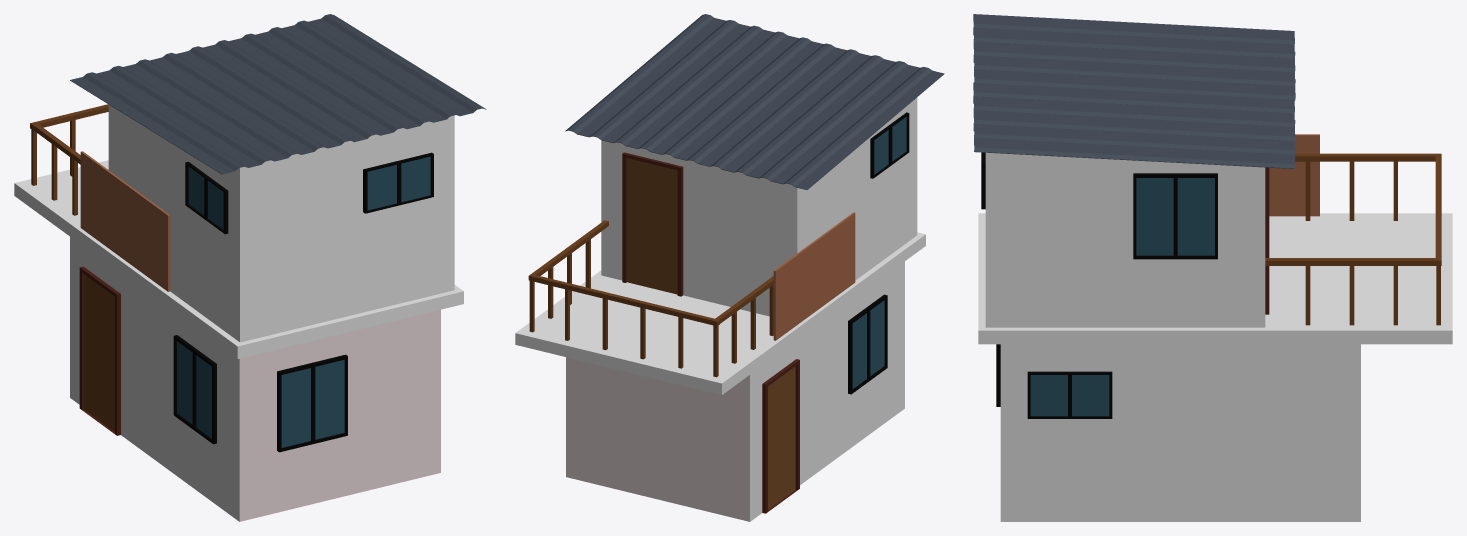
File: Slum 5.fbx
The picture shows the model from 3 angles, left to right: view 1: azimuth 30°, elevation 25°; view 2: azimuth 150°, elevation 25°; view 3: azimuth 270°, elevation 25°; orthographic projection. The views are drawn at different scales.
Visible parts, largest first — view 1: Roof.001, 1st Floor.007, 1st Floor.005, 1st Floor.002, 1st Floor.015, 1st Floor.006, Plane.001, Door.005, Window 1.012, Window 1.011, Window 2.011, Cube.009 (+1 smaller); view 2: Roof.001, 1st Floor.005, 1st Floor.006, 1st Floor.007, 1st Floor.002, 1st Floor.015, Door.006, Cube.009, Plane.001, Door.005, Window 1.011, Window 2.010; view 3: 1st Floor.002, Roof.001, 1st Floor.015, 1st Floor.006, Window 1.013, Cube.009, Window 2.009, Plane.001, Door.006.
Boxes of the visible parts, x1,y1,x2,y2 form: Roof.001: [70, 14, 486, 174]; 1st Floor.007: [240, 115, 454, 342]; 1st Floor.005: [239, 309, 440, 521]; 1st Floor.002: [70, 237, 239, 521]; 1st Floor.015: [108, 105, 239, 341]; 1st Floor.006: [14, 160, 463, 359]; Plane.001: [80, 151, 170, 291]; Door.005: [79, 266, 120, 435]; Window 1.012: [277, 354, 347, 452]; Window 1.011: [173, 335, 216, 444]; Window 2.011: [363, 152, 433, 213]; Cube.009: [30, 104, 108, 215]; Roof.001: [565, 14, 944, 189]; 1st Floor.005: [566, 357, 749, 521]; 1st Floor.006: [515, 232, 925, 394]; 1st Floor.007: [601, 140, 797, 316]; 1st Floor.002: [750, 261, 904, 521]; 1st Floor.015: [797, 97, 917, 280]; Door.006: [622, 152, 683, 296]; Cube.009: [528, 220, 773, 377]; Plane.001: [773, 212, 855, 340]; Door.005: [762, 359, 799, 513]; Window 1.011: [848, 294, 887, 394]; Window 2.010: [870, 112, 909, 178]; 1st Floor.002: [1000, 344, 1360, 521]; Roof.001: [973, 14, 1295, 168]; 1st Floor.015: [985, 152, 1265, 327]; 1st Floor.006: [978, 213, 1452, 344]; Window 1.013: [1133, 173, 1217, 259]; Cube.009: [1265, 153, 1441, 325]; Window 2.009: [1027, 371, 1112, 418]; Plane.001: [1269, 134, 1319, 216]; Door.006: [1265, 167, 1269, 314].
Size of the model in its own units: 451 by 594 by 662.
